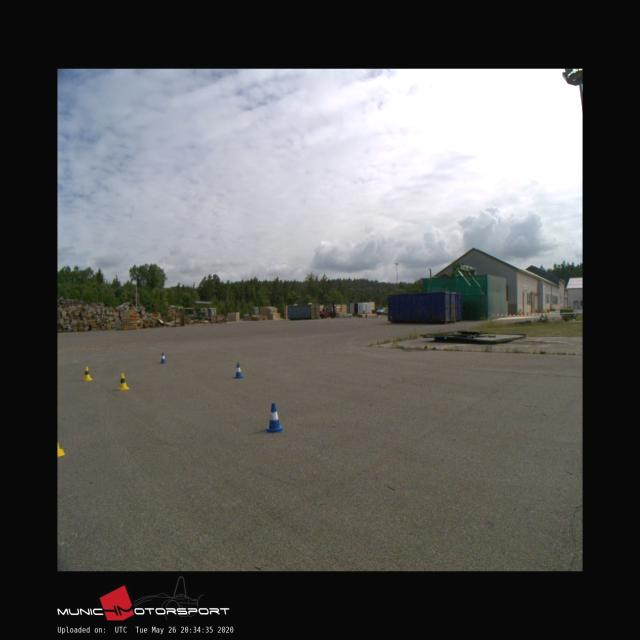blue_cone: (266, 402, 282, 432), (234, 362, 244, 378), (160, 352, 166, 363)
yellow_cone: (117, 373, 129, 389), (84, 366, 92, 380)
